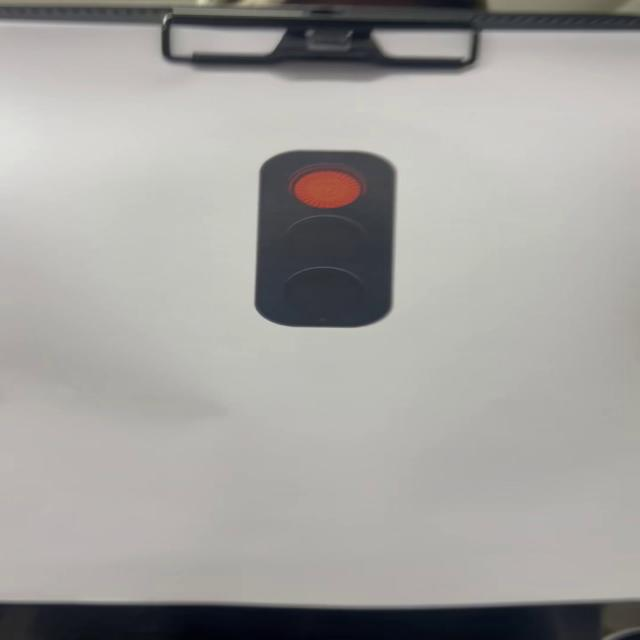red: (258, 149, 398, 328)
